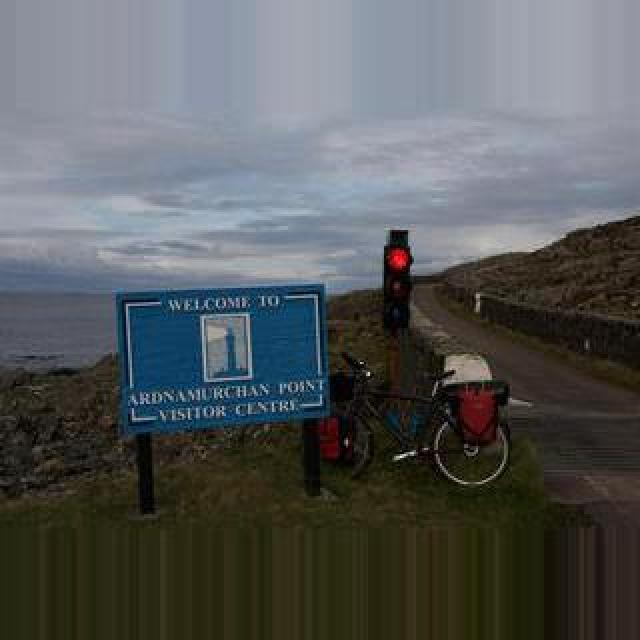Person: (320, 351, 510, 489)
